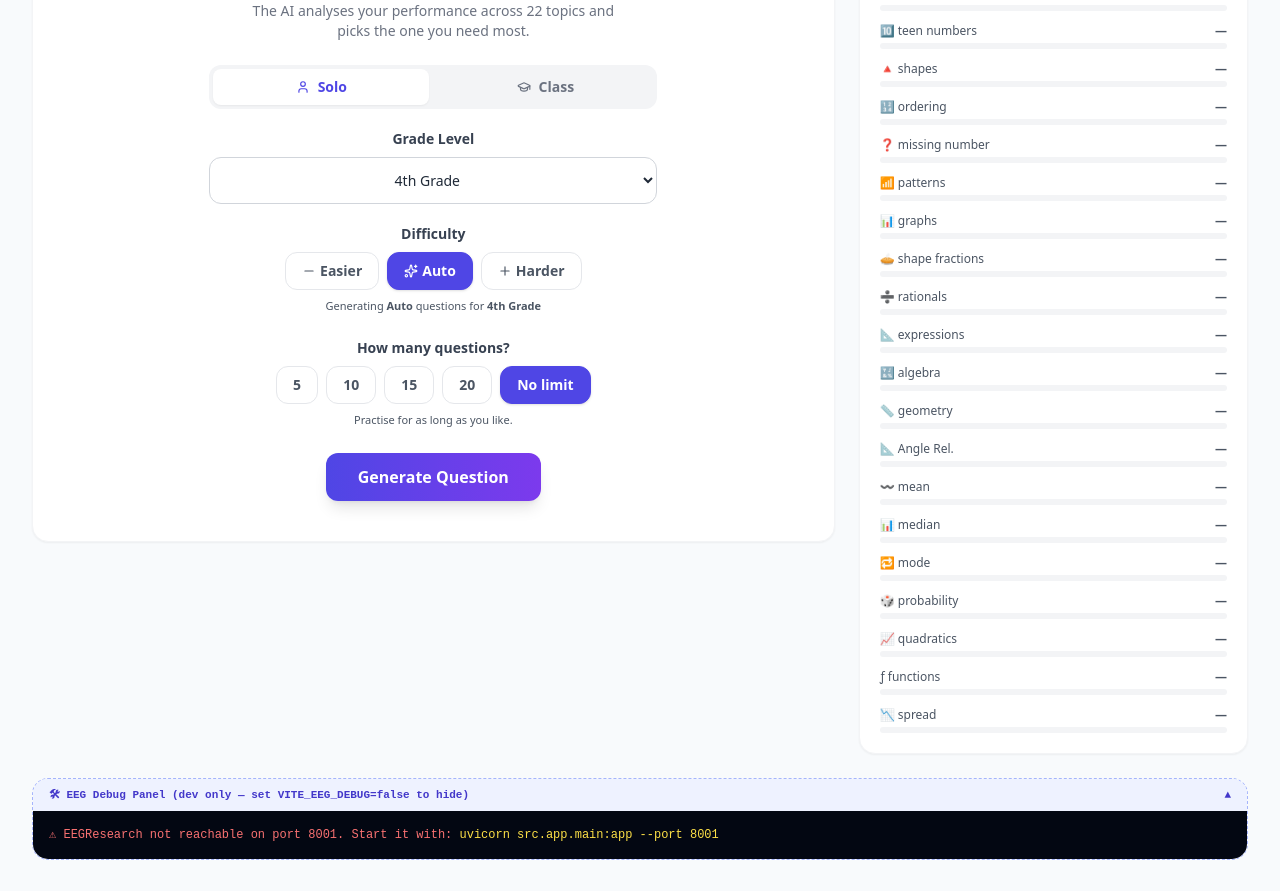
Scenario: takes the sidecar's answer during a lesson, and turns off what it refuses
(page scrolled)
Click the button "Generate Question": [433, 476] box [326, 452, 541, 500]
(page scrolled)
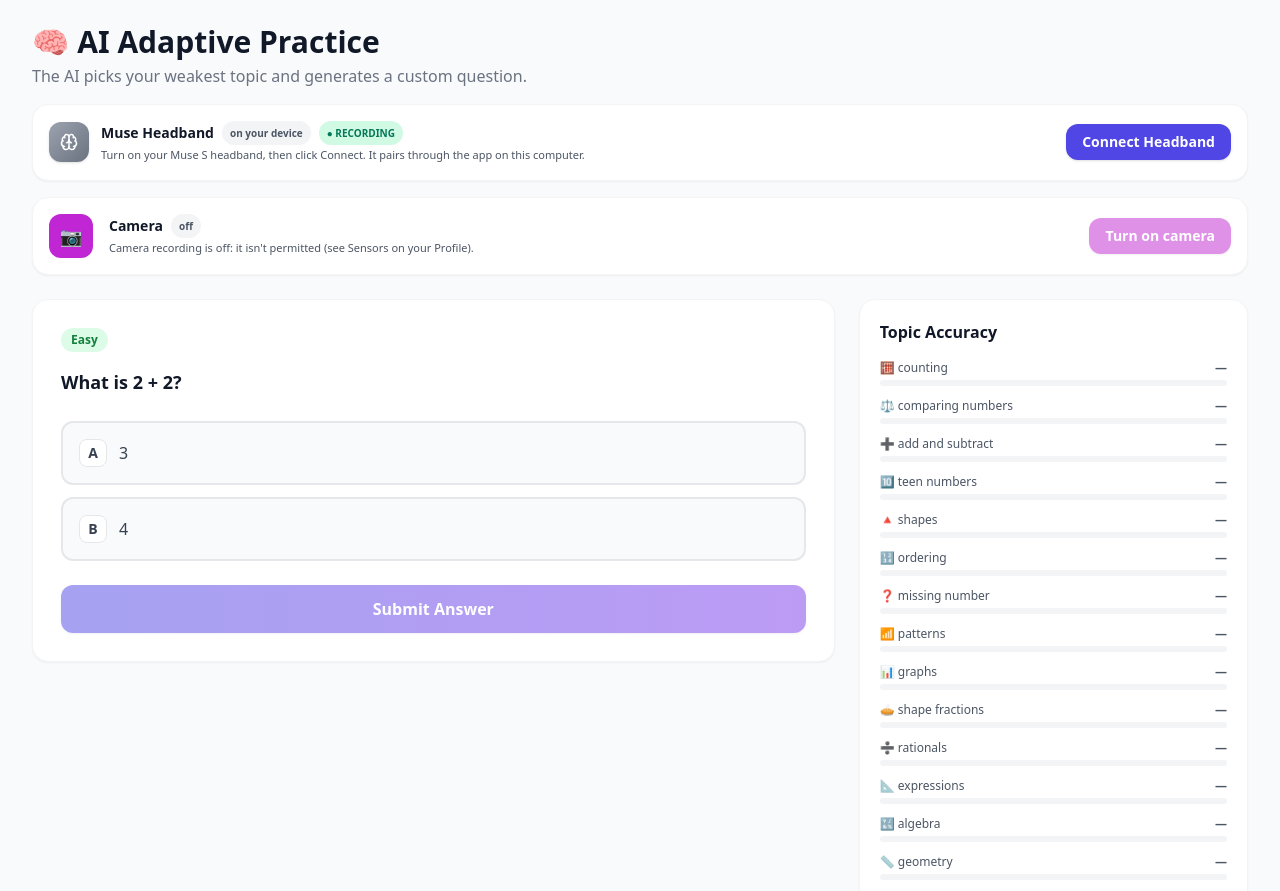
Result: the text "What is 2 + 2?" is shown at [61, 370, 182, 394]
Result: the button "Turn on camera" is shown at [1090, 218, 1231, 254]
